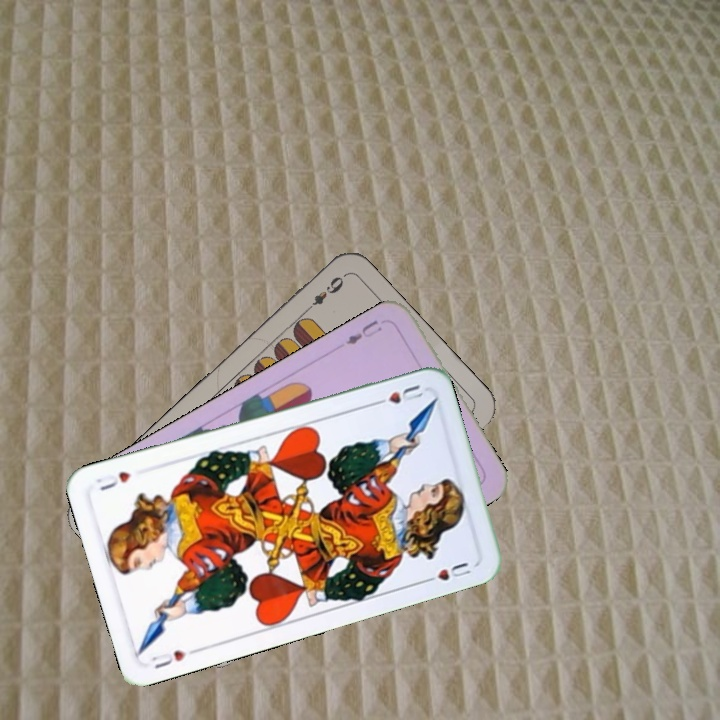E9: (300, 271, 348, 316)
EU: (342, 316, 385, 348)
HU: (368, 381, 427, 409), (147, 646, 189, 672)
